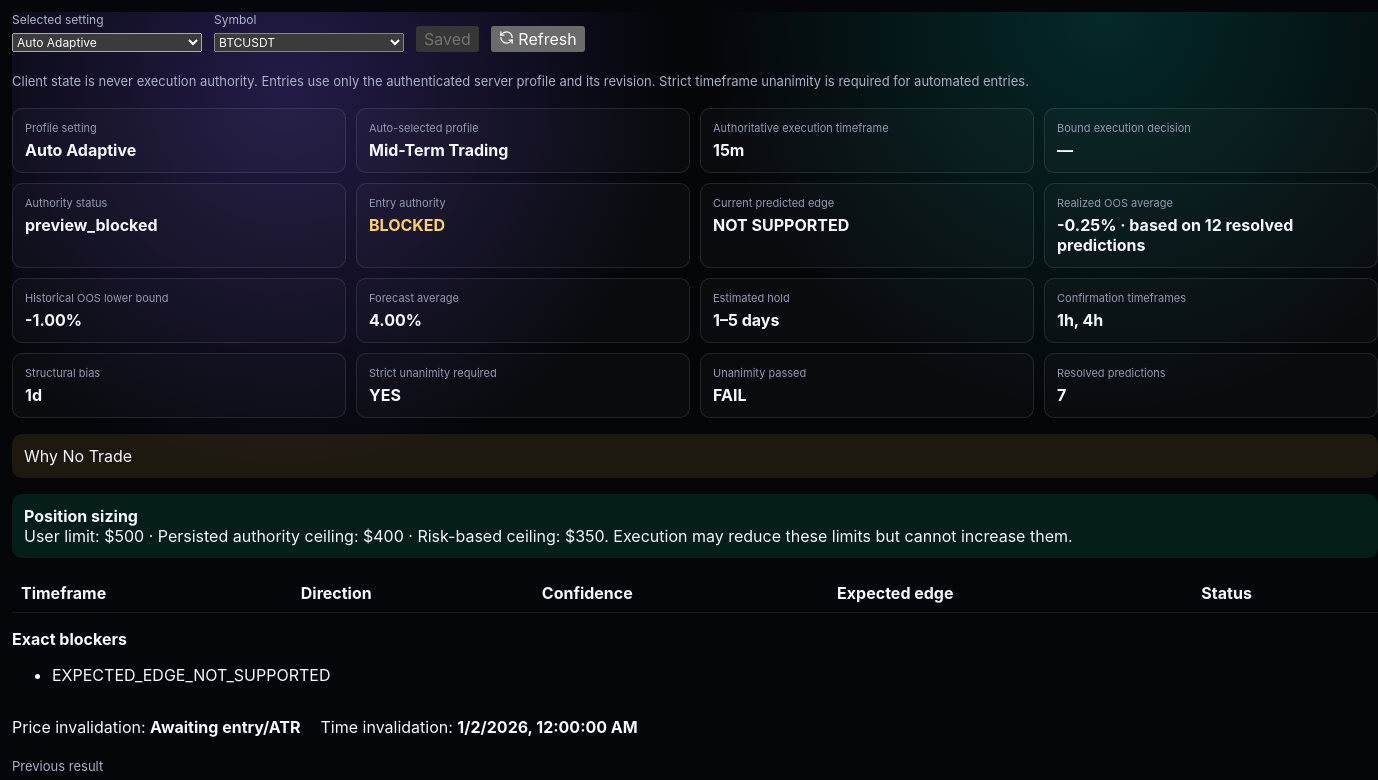
Test: TradingHorizonSettings › loads server authority and saves with optimistic revision
This screenshot has width=1378, height=780.
Expected: the text "Authoritative execution timeframe" is shown, [713,120,889,134]
Select "Mid-Term Trading" in the dropdown named "Trading profile" at (107,42), box [12,33,202,52]
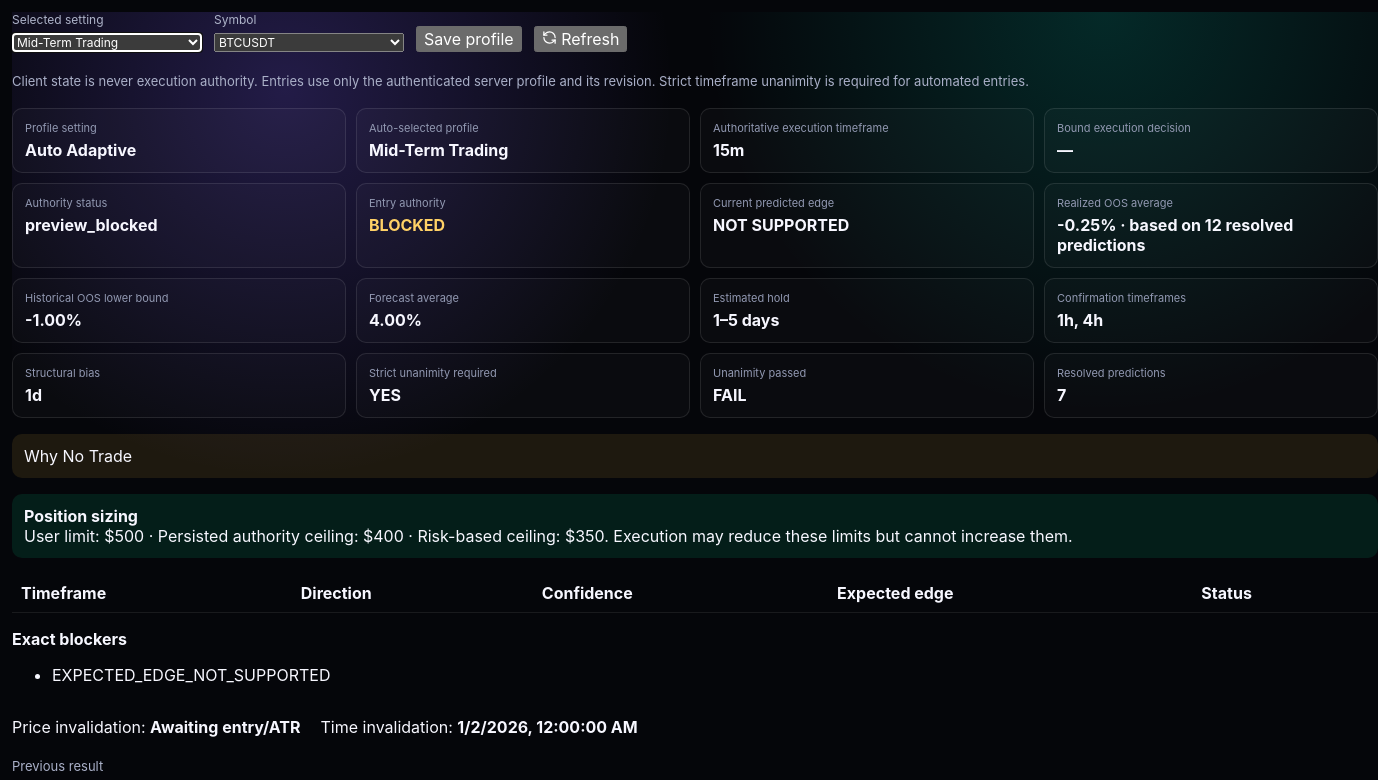
Click the button "Save profile" at (469,39), box [416,26,522,52]
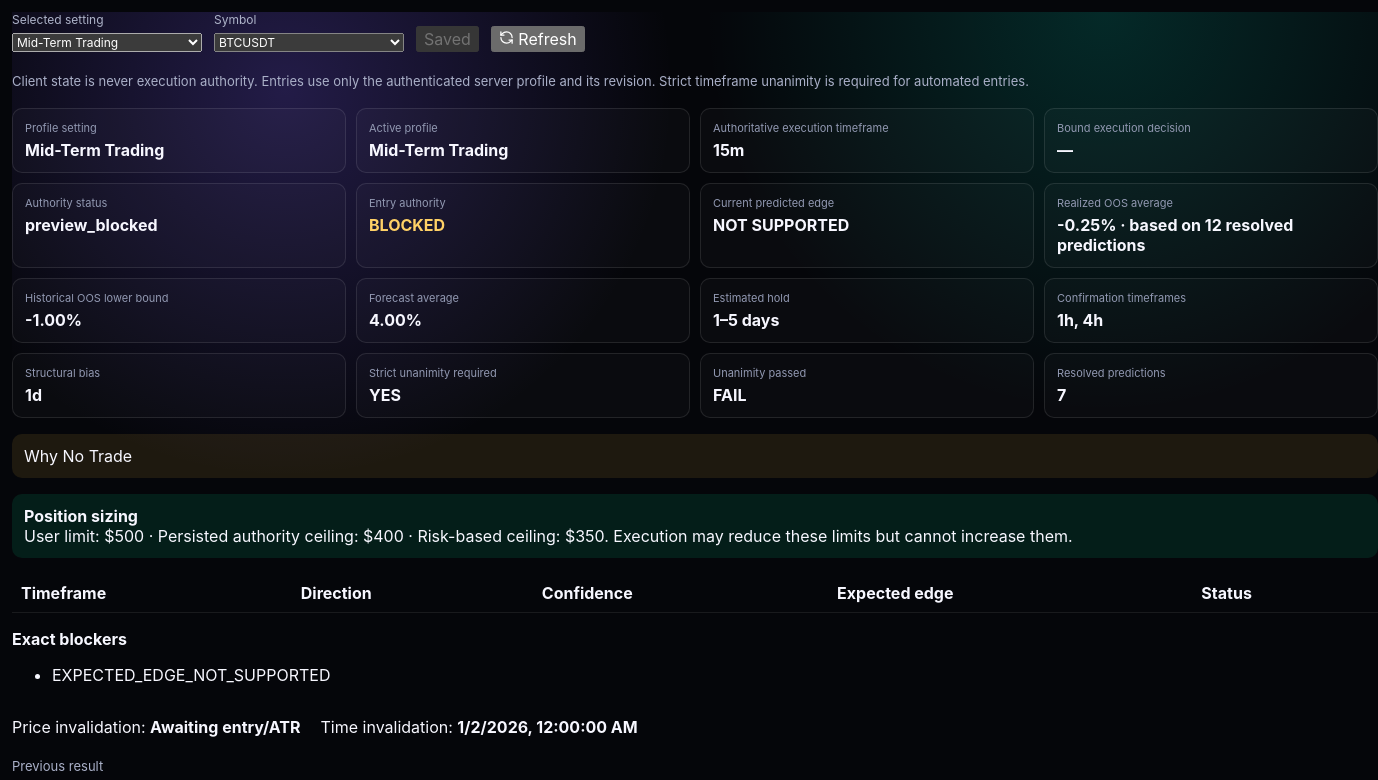
Expected: the button "Saved" is disabled, [416,26,479,52]
